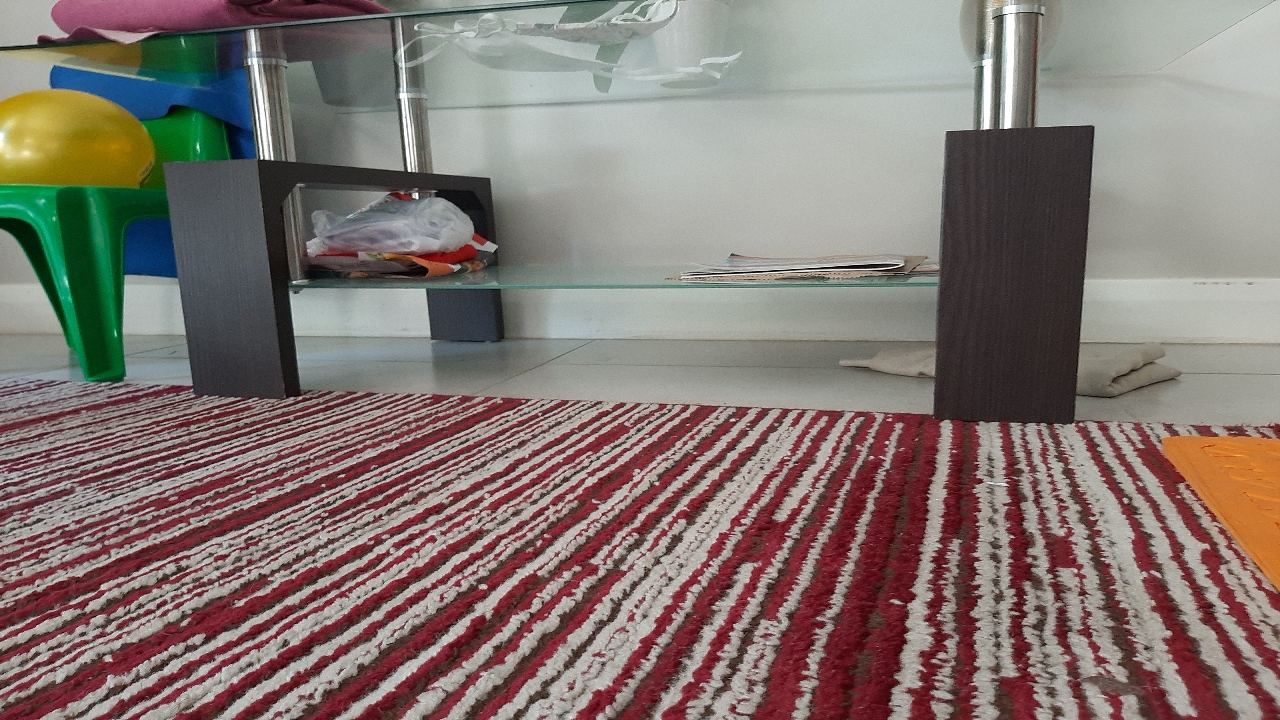teatable: (155, 298, 521, 423), (902, 304, 1086, 456)
